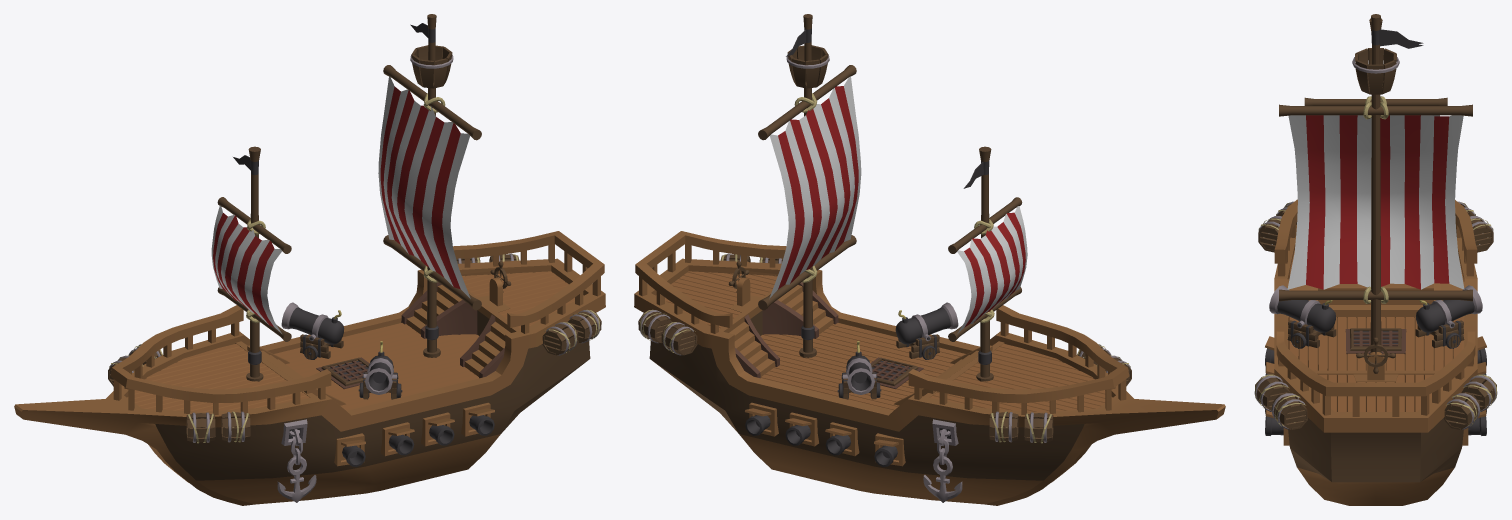
File: Ship_Large.glb
3 views of the same model, side by side, from view 1: azimuth 30°, elevation 25°; view 2: azimuth 150°, elevation 25°; view 3: azimuth 270°, elevation 25° (orthographic). The views are drawn at different scales.
Parts seen in each view (by area): view 1: Ship_Large; view 2: Ship_Large; view 3: Ship_Large.
Part boxes in pixels (x1,y1,x2,y2): Ship_Large: [14, 14, 605, 505]; Ship_Large: [634, 14, 1225, 505]; Ship_Large: [1254, 14, 1497, 505].
Size of the model in its own units: 15.43 by 11.48 by 5.3.
1 material, 1 textured.
